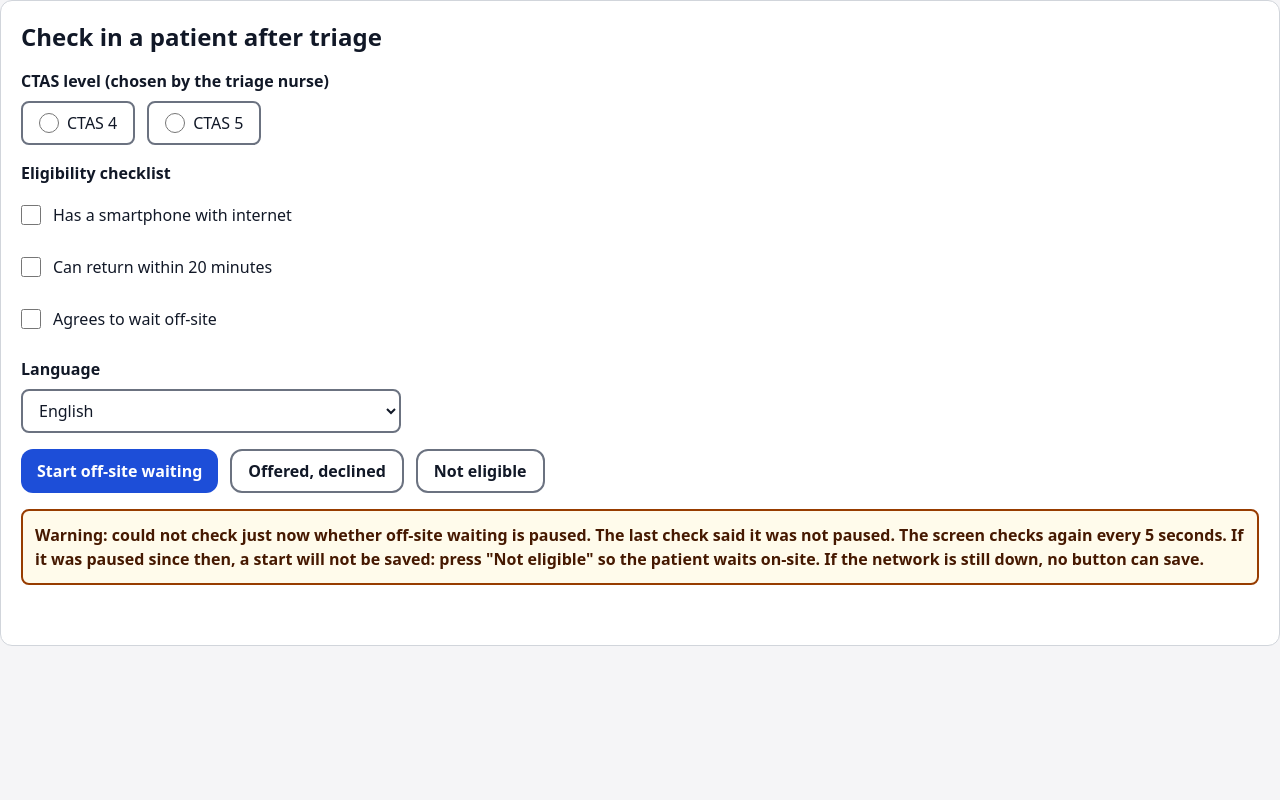
it: CheckInPanel taps after a failed pause read › a start at a site paused since the last good read shows the paused message
Step 1. Click the radio button labelled "CTAS 4" → x=49, y=123, box [39,113,59,133]
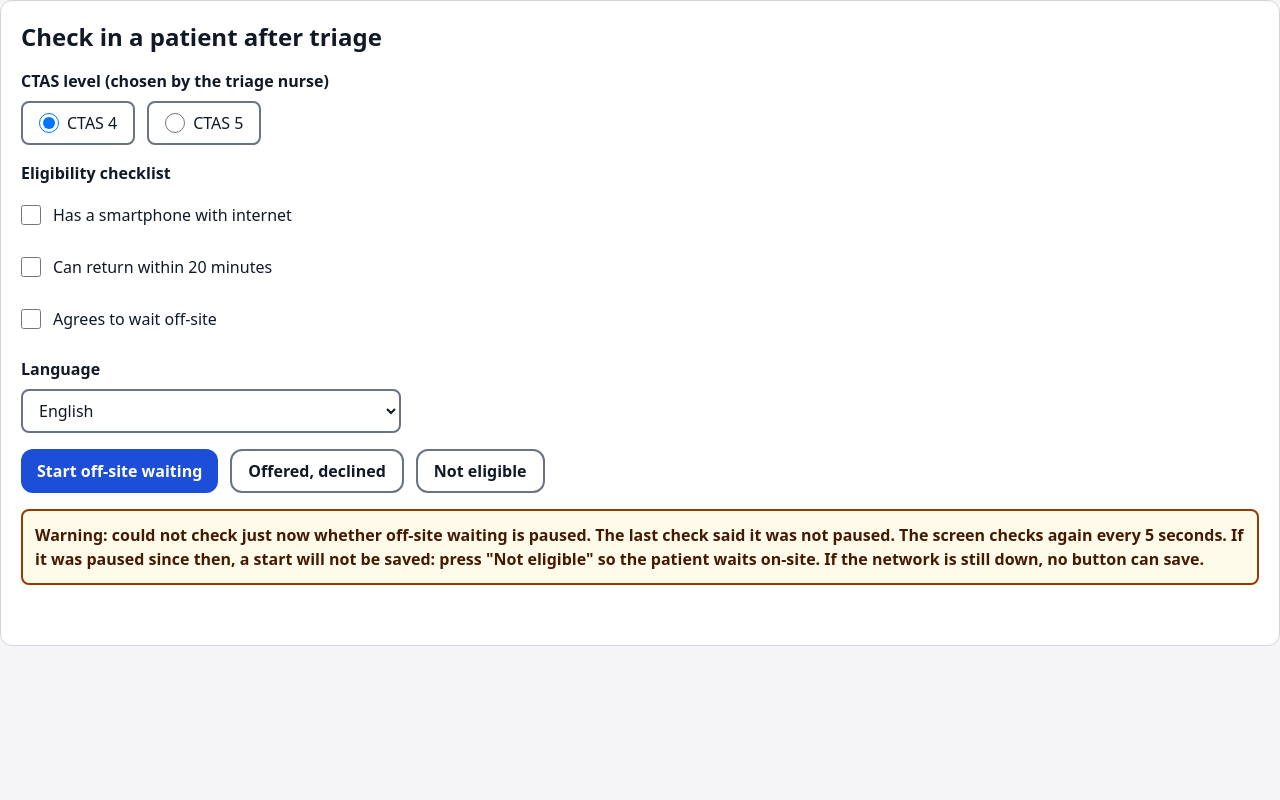
Step 2. Click the checkbox labelled "Has a smartphone with internet" → x=31, y=215, box [21,205,41,225]
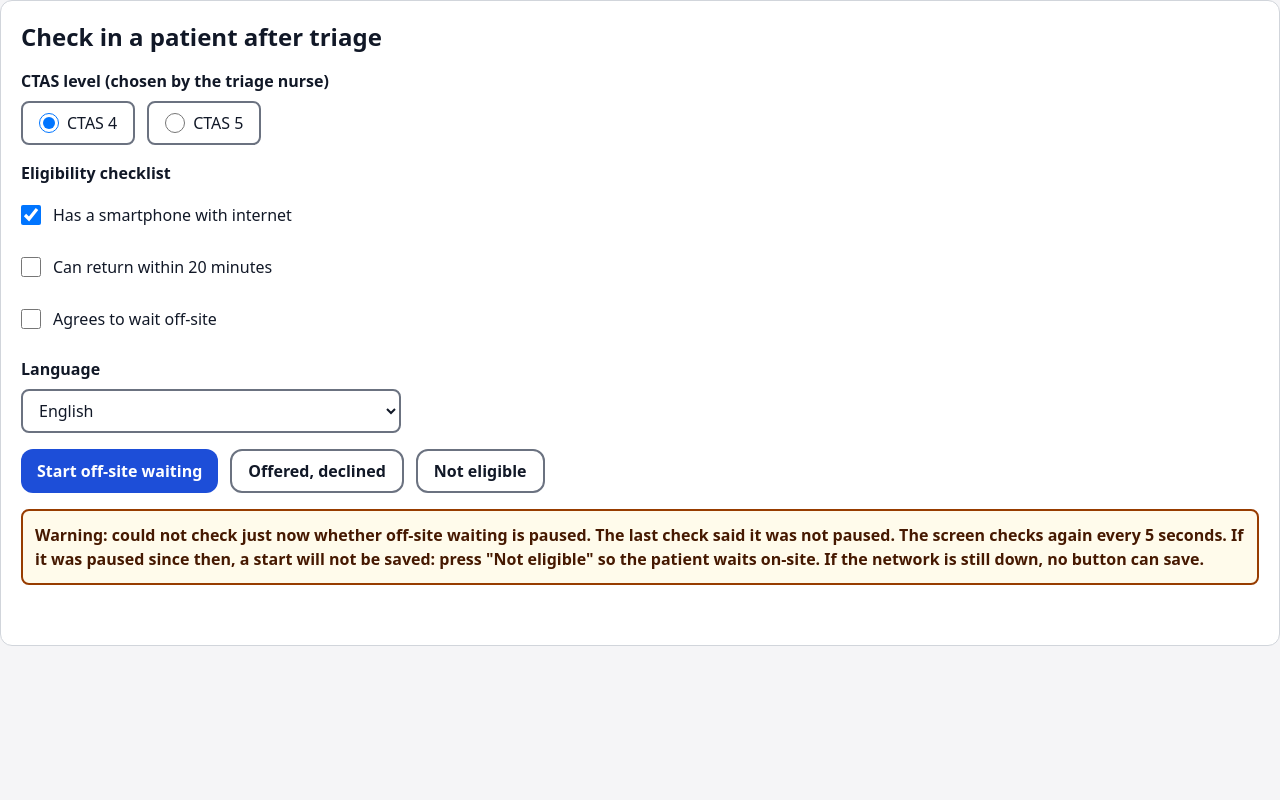
Step 3. Click the checkbox labelled "Can return within 20 minutes" → x=31, y=267, box [21,257,41,277]
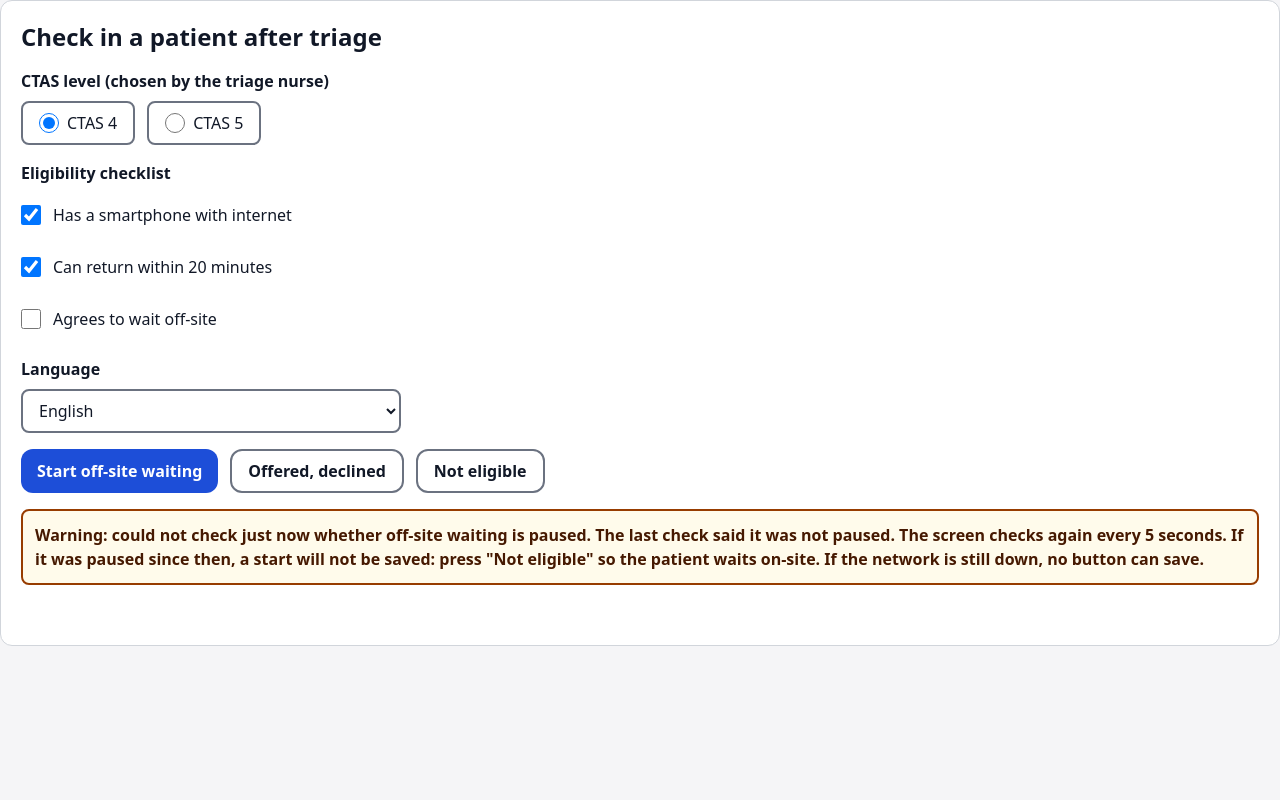
Step 4. Click the checkbox labelled "Agrees to wait off-site" → x=31, y=319, box [21,309,41,329]
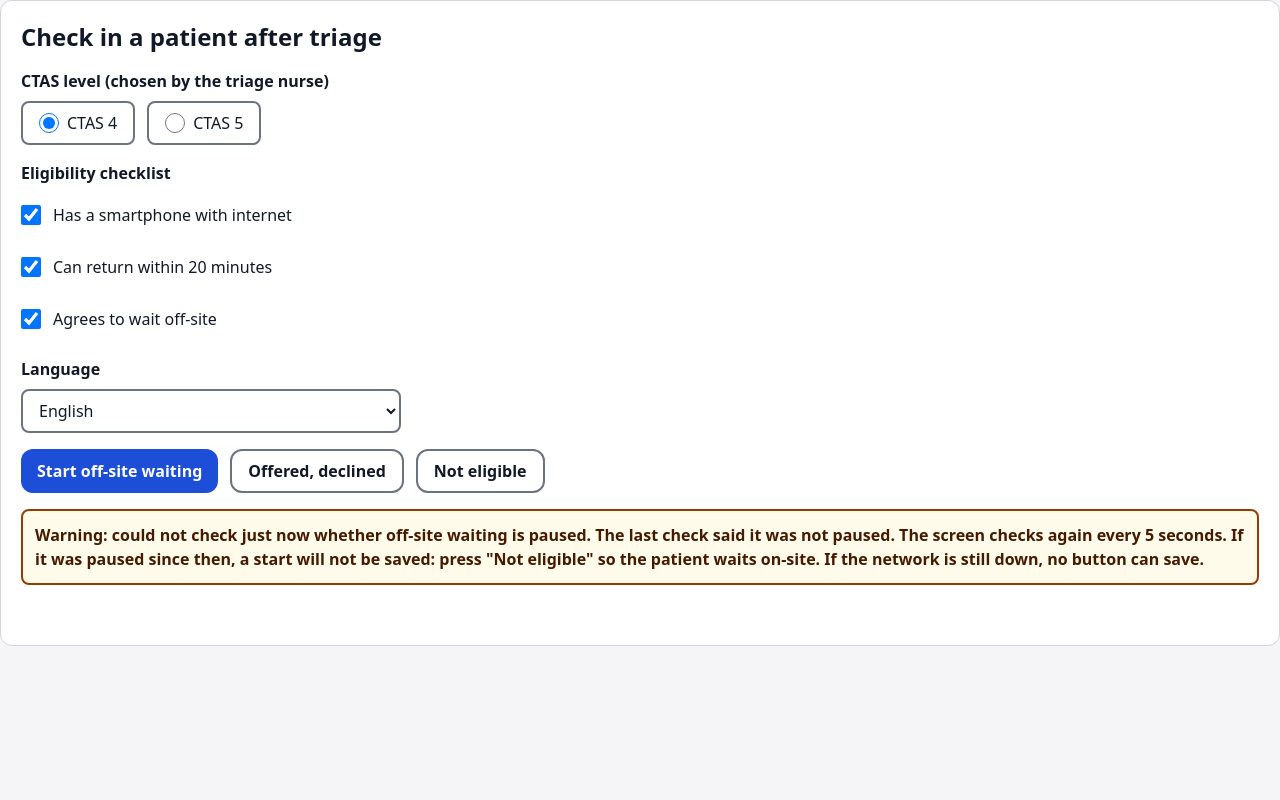
Step 5. Click the button "Start off-site waiting" → x=120, y=471, box [21,449,218,493]
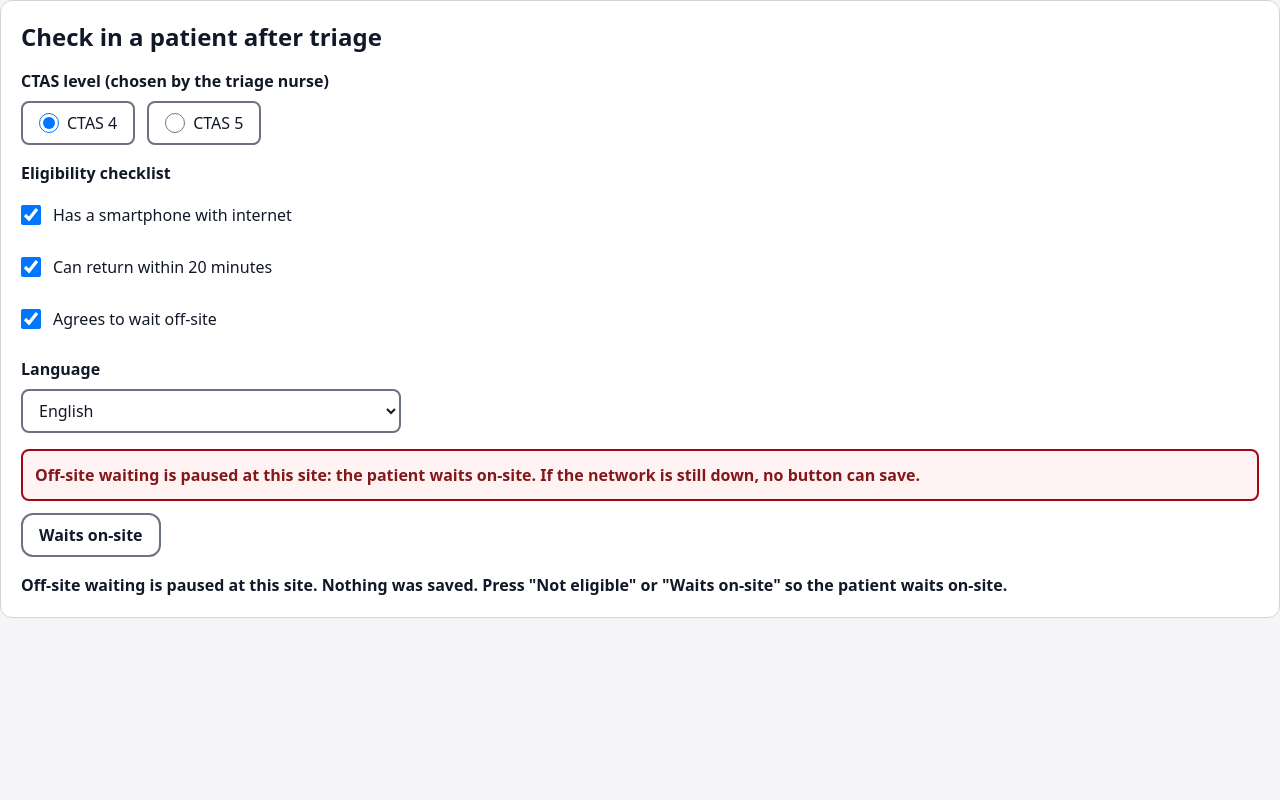
Check: the text "Off-site waiting is paused at this site. Nothing was saved. Press \"Not eligible\" or \"Waits on-site\" so the patient waits on-site." is shown, box [21,574,1007,596]
Step 6. Click the button "Waits on-site" → x=91, y=535, box [21,513,161,557]
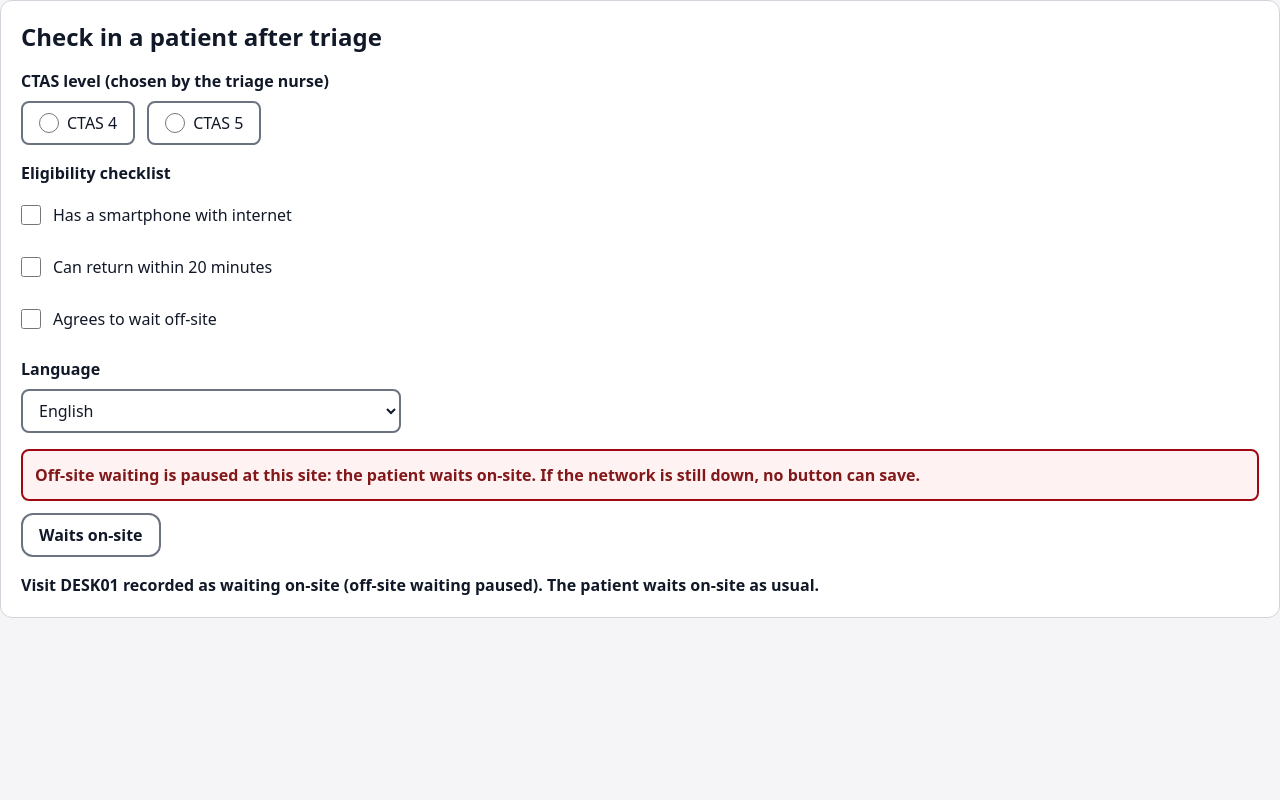
Check: the text "Off-site waiting is paused at this site. Nothing was saved. Press \"Not eligible\" or \"Waits on-site\" so the patient waits on-site." is gone
Check: the message shows "Visit DESK01 recorded as waiting on-site (off-site waiting paused)", box [21,574,819,596]
